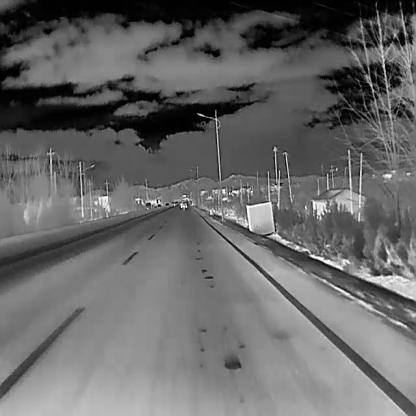car: (180, 200, 188, 208), (144, 202, 151, 210), (164, 202, 169, 206)
